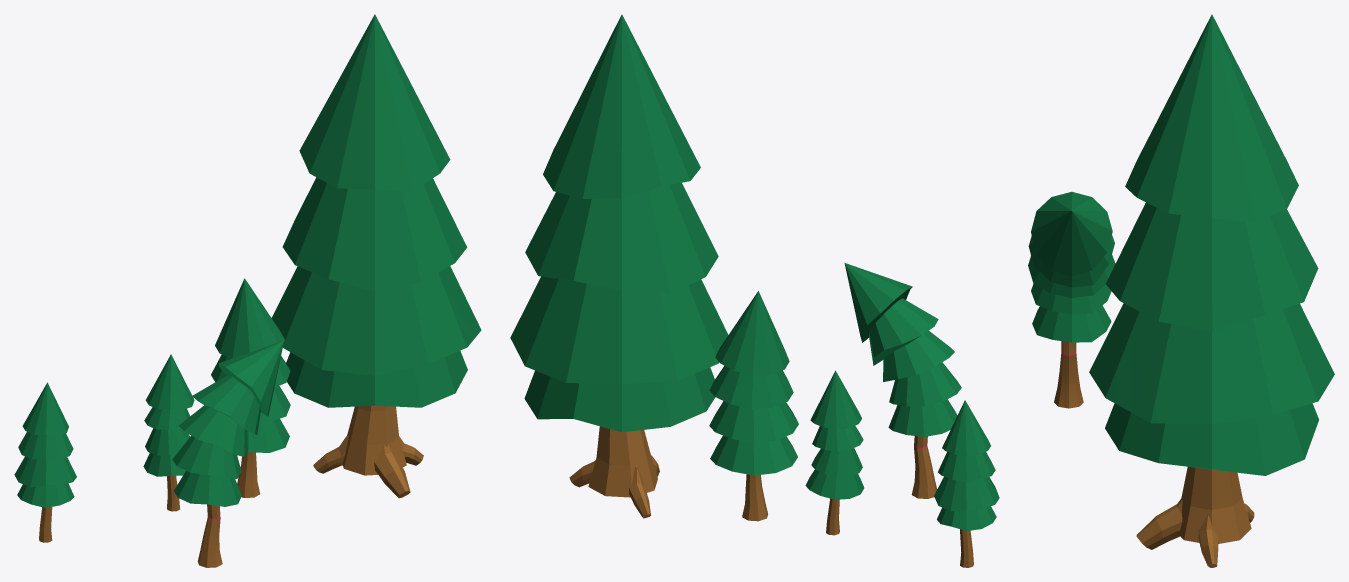
Rendered from M_Trees_Leon_Goihl.fbx.
The picture shows the model from 3 angles, left to right: view 1: azimuth 30°, elevation 25°; view 2: azimuth 150°, elevation 25°; view 3: azimuth 270°, elevation 25°; orthographic projection. The views are drawn at different scales.
Visible parts, largest first — view 1: pCylinder7, pCone24, pCylinder6, pCone22, pCone23; view 2: pCylinder7, pCylinder6, pCone24, pCone22, pCone23; view 3: pCylinder7, pCone24.
Boxes of the visible parts, bbox=[...] form: pCylinder7: bbox=[272, 14, 481, 498]; pCone24: bbox=[172, 340, 283, 567]; pCylinder6: bbox=[211, 278, 290, 497]; pCone22: bbox=[14, 382, 76, 542]; pCone23: bbox=[143, 354, 194, 511]; pCylinder7: bbox=[510, 14, 728, 518]; pCylinder6: bbox=[709, 291, 798, 521]; pCone24: bbox=[844, 263, 961, 498]; pCone22: bbox=[934, 400, 999, 567]; pCone23: bbox=[805, 370, 864, 535]; pCylinder7: bbox=[1089, 14, 1334, 567]; pCone24: bbox=[1028, 191, 1115, 408].
Size of the model in its own units: 1331 by 1317 by 685.
